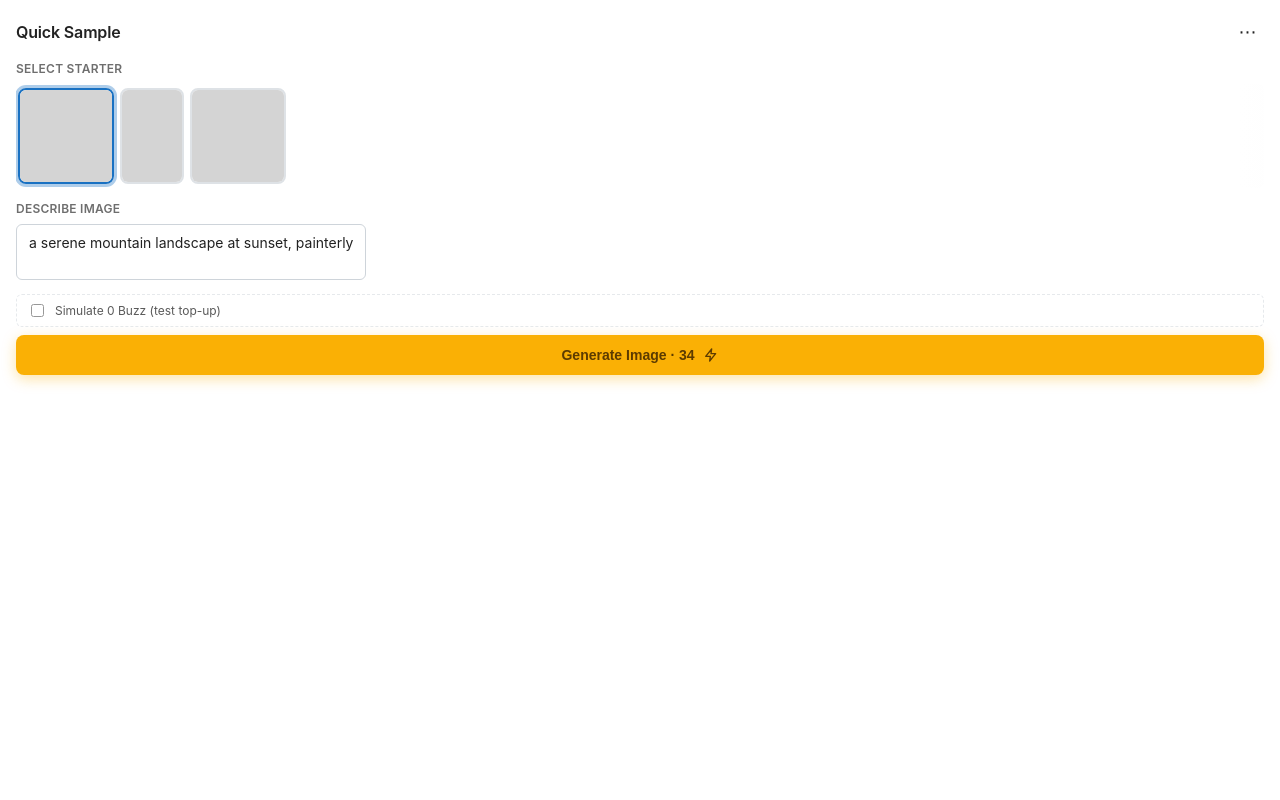
Test: In-flight loading card (results carousel) › renders the card AT THE FRONT of the carousel (prepended to existing results)
Click the button "Generate Image · 34".
click(640, 355)  # box x1=16 y1=335 x2=1264 y2=375
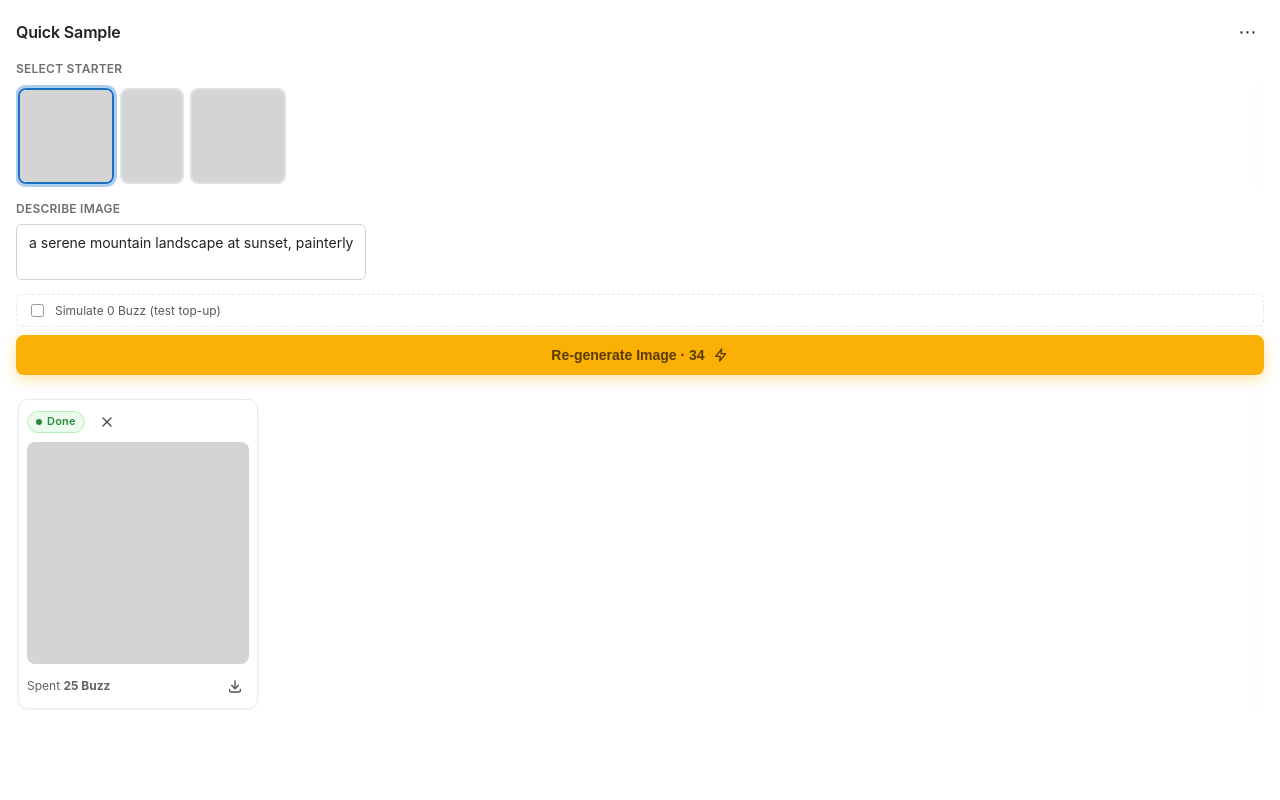
Check: the number of buttons named "Download" is 1, box x1=221 y1=672 x2=249 y2=700
Click the button "Re-generate Image · 34".
click(640, 355)  # box x1=16 y1=335 x2=1264 y2=375
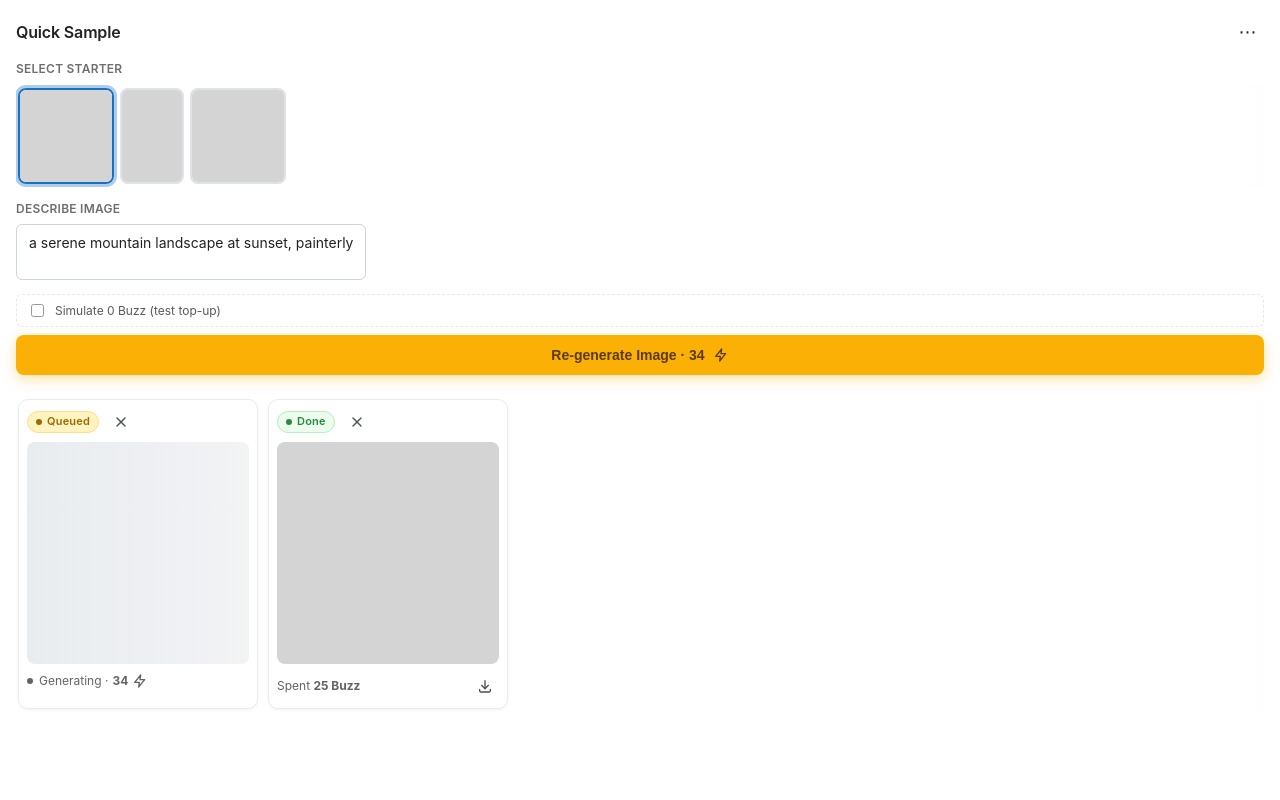
Check: the element labelled "Generating" is shown, box x1=18 y1=399 x2=258 y2=709
Check: the number of buttons named "Download" is 1, box x1=471 y1=672 x2=499 y2=700
